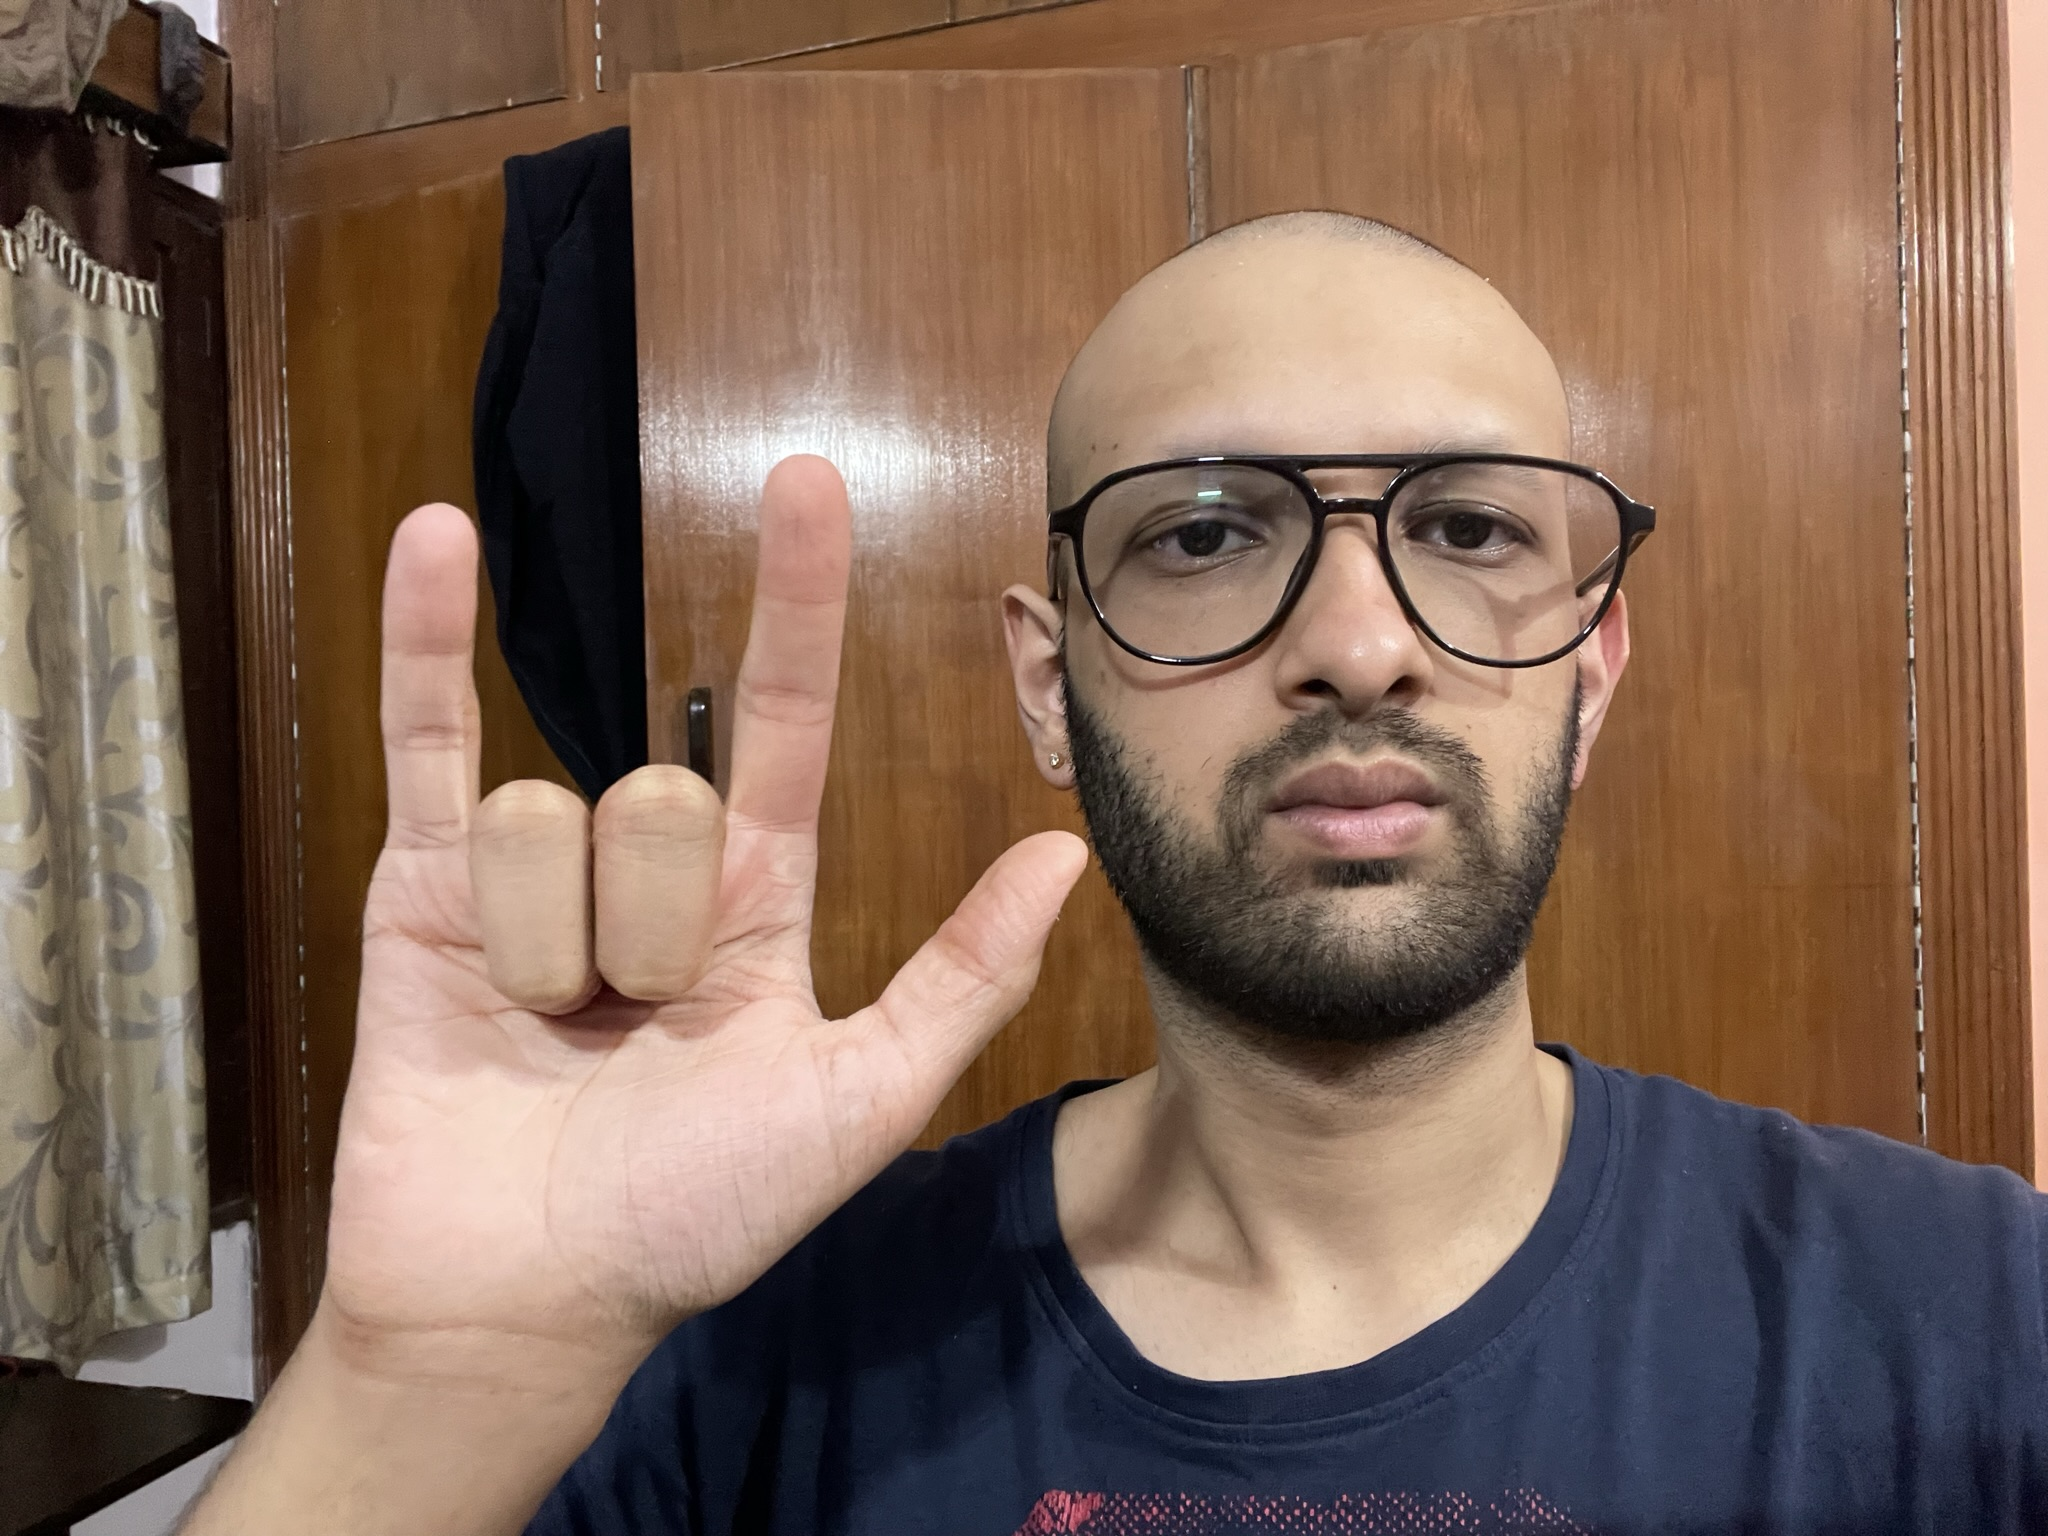I Love You: (321, 447, 1093, 1338)
